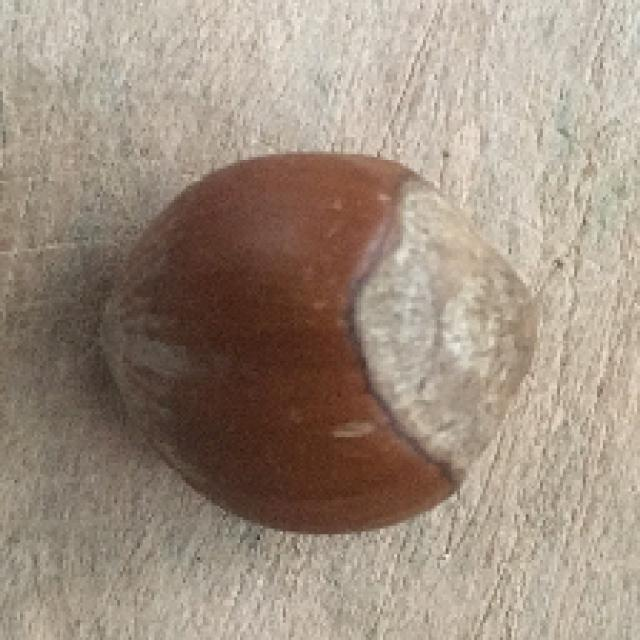qualityHazelnut: (86, 139, 540, 550)
